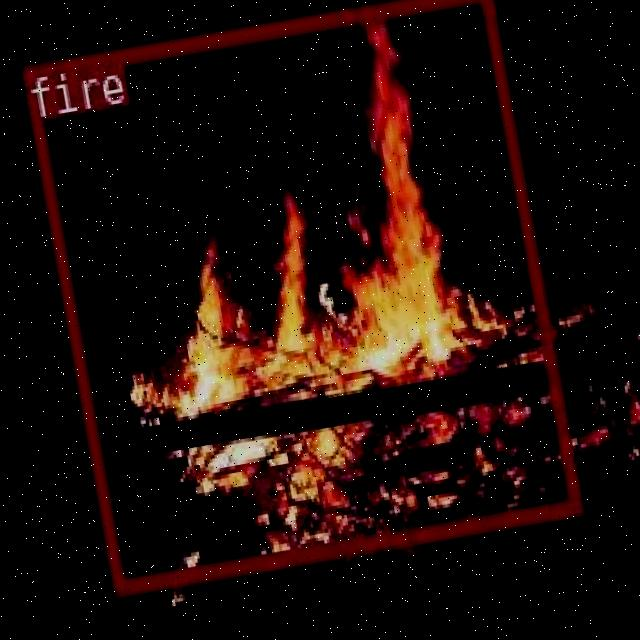fire: (17, 0, 580, 595)
